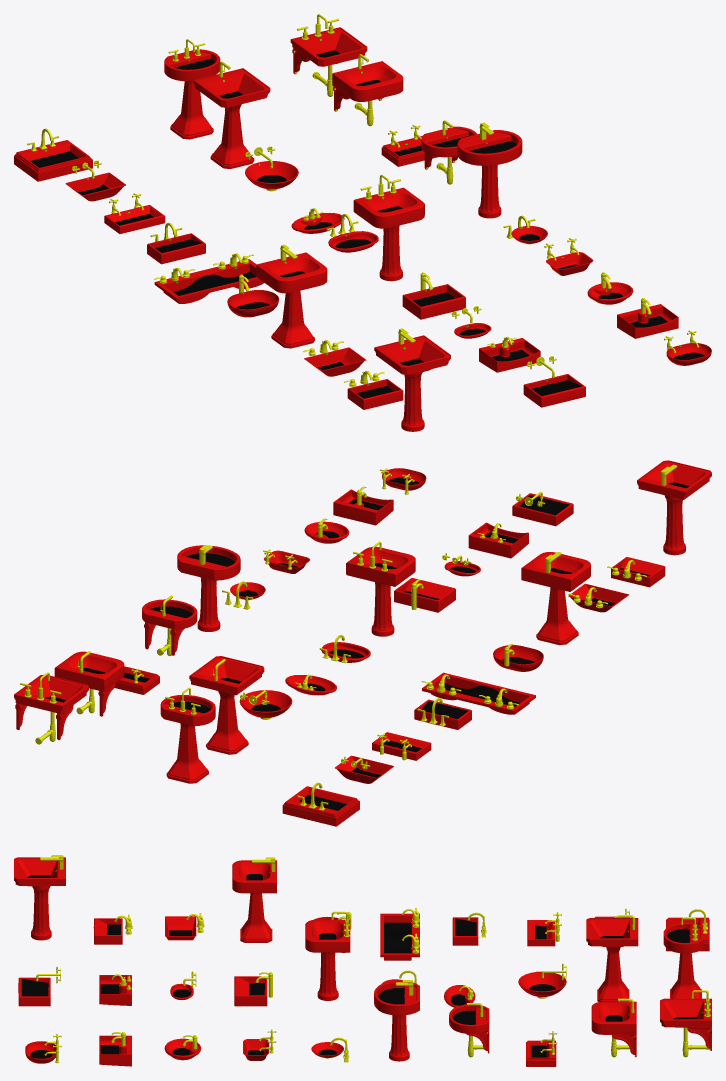
File: sinks_grp.fbx
3 renders of one model, top to bottom at view 1: azimuth 30°, elevation 25°; view 2: azimuth 150°, elevation 25°; view 3: azimuth 270°, elevation 25°, orthographic. The views are drawn at different scales.
Parts seen in each view (by area): view 1: sink_4, sink_19, sink_15, sink_1, sink_20, sink_26, sink_29, sink_30, sink_10, sink_6, sink_27, sink_14 (+16 smaller); view 2: sink_19, sink_4, sink_1, sink_15, sink_20, sink_30, sink_26, sink_29, sink_27, sink_10, sink_6, sink_14 (+15 smaller); view 3: sink_19, sink_4, sink_1, sink_15, sink_30, sink_29, sink_26, sink_20, sink_27, sink_6, PS_sinkbasin_6, sink_14 (+18 smaller).
Part boxes in pixels (left/top/right/bottom): sink_4: left=256, top=252, right=327, bottom=348; sink_19: left=193, top=68, right=270, bottom=168; sink_15: left=353, top=187, right=424, bottom=281; sink_1: left=374, top=335, right=450, bottom=431; sink_20: left=164, top=49, right=220, bottom=139; sink_26: left=457, top=130, right=522, bottom=218; sink_29: left=332, top=61, right=403, bottom=126; sink_30: left=290, top=27, right=367, bottom=96; sink_10: left=14, top=140, right=92, bottom=181; sink_6: left=154, top=259, right=264, bottom=303; sink_27: left=421, top=126, right=476, bottom=184; sink_14: left=402, top=284, right=465, bottom=319; sink_19: left=189, top=656, right=264, bottom=754; sink_4: left=521, top=552, right=590, bottom=645; sink_1: left=637, top=460, right=711, bottom=555; sink_15: left=346, top=546, right=415, bottom=636; sink_20: left=160, top=695, right=215, bottom=783; sink_30: left=14, top=674, right=88, bottom=744; sink_26: left=177, top=545, right=240, bottom=631; sink_29: left=54, top=651, right=124, bottom=716; sink_27: left=142, top=599, right=197, bottom=656; sink_10: left=282, top=786, right=359, bottom=826; sink_6: left=422, top=672, right=535, bottom=714; sink_14: left=394, top=578, right=455, bottom=612; sink_19: left=586, top=918, right=638, bottom=1001; sink_4: left=232, top=860, right=276, bottom=942; sink_1: left=14, top=857, right=65, bottom=940; sink_15: left=305, top=919, right=350, bottom=1000; sink_30: left=660, top=998, right=711, bottom=1057; sink_29: left=591, top=1001, right=636, bottom=1057; sink_26: left=374, top=980, right=419, bottom=1061; sink_20: left=663, top=922, right=703, bottom=998; sink_27: left=449, top=1004, right=489, bottom=1057; sink_6: left=380, top=913, right=419, bottom=960; PS_sinkbasin_6: left=384, top=922, right=411, bottom=953; sink_14: left=234, top=976, right=267, bottom=1006.
Size of the model in its own units: 513 by 143 by 975.
